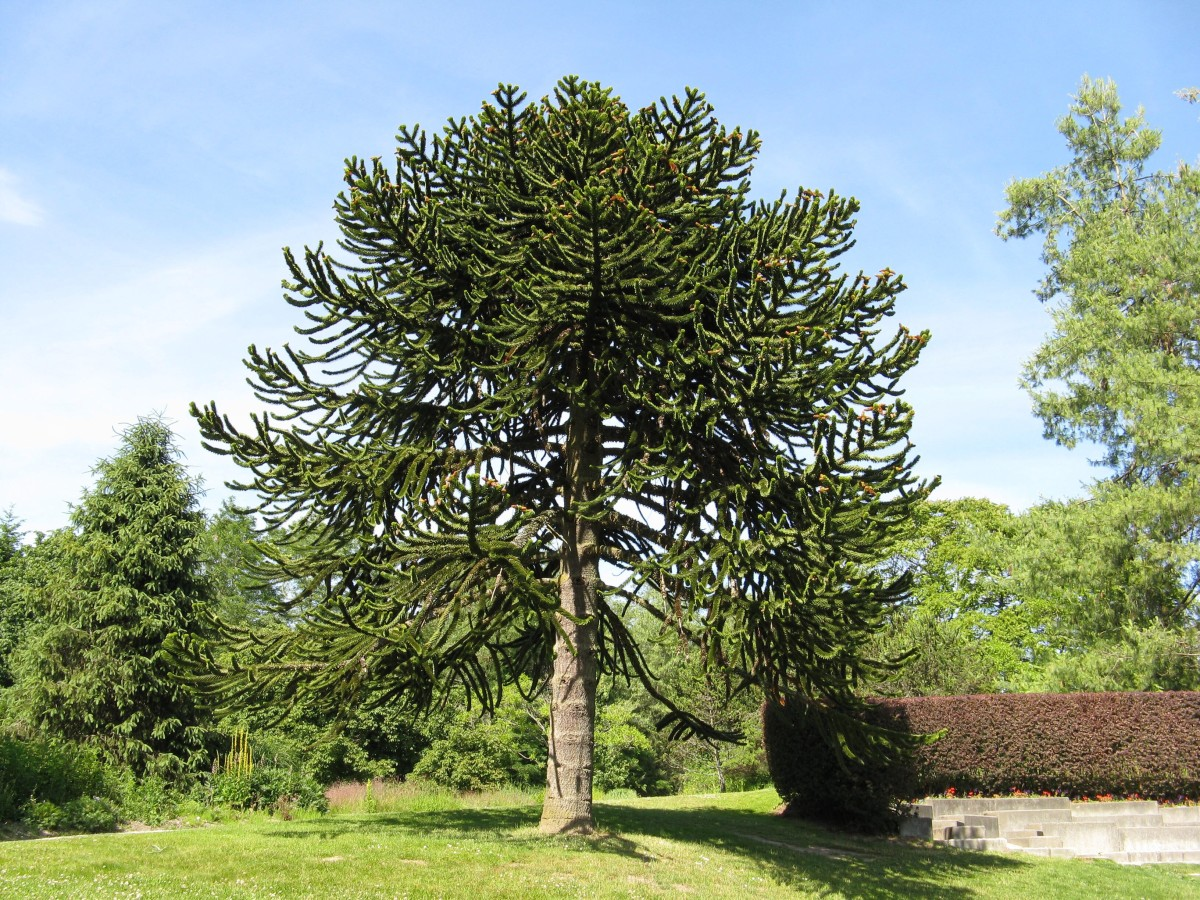grass: (0, 811, 1199, 895)
tree: (534, 556, 601, 843)
